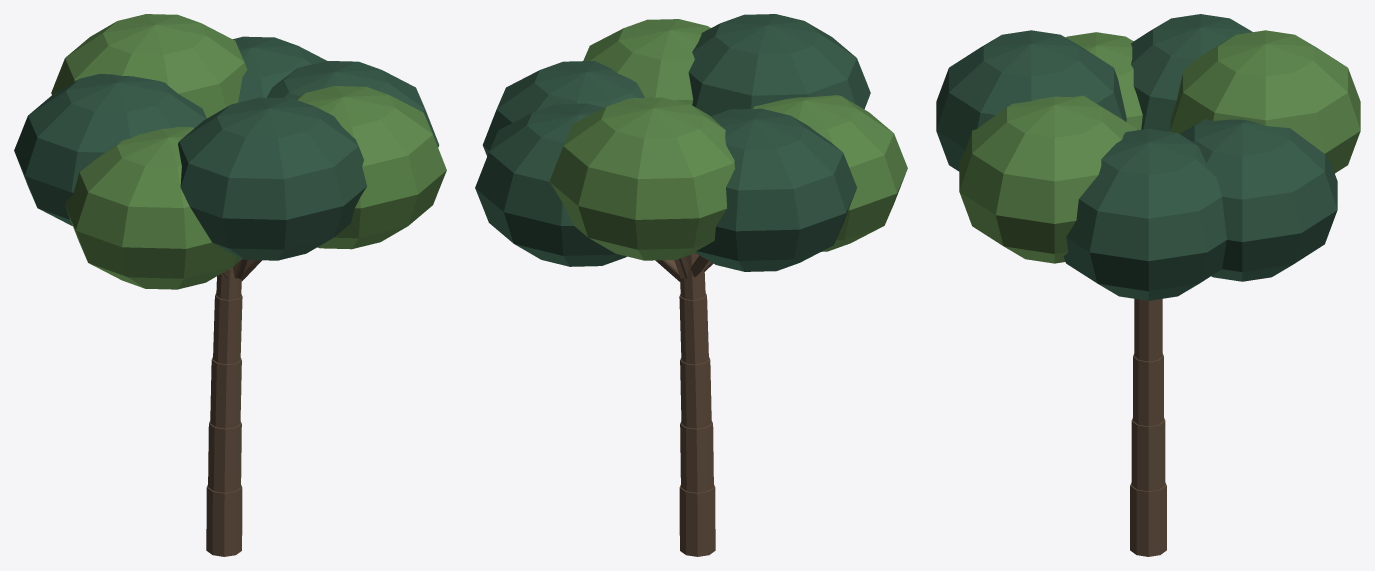
The model's file is nature-breadfruit.lod0.glb.
3 views of the same model, side by side, from view 1: azimuth 30°, elevation 25°; view 2: azimuth 150°, elevation 25°; view 3: azimuth 270°, elevation 25° (orthographic). The views are drawn at different scales.
Parts seen in each view (by area): view 1: nature-breadfruit__body; view 2: nature-breadfruit__body; view 3: nature-breadfruit__body.
Boxes of the visible parts, <box> form: nature-breadfruit__body: <box>14,14,446,556</box>; nature-breadfruit__body: <box>475,14,907,556</box>; nature-breadfruit__body: <box>936,14,1360,556</box>.
Size of the model in its own units: 4.48 by 5.5 by 4.24.
